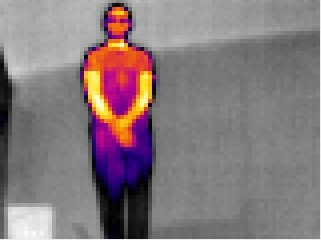human: (80, 3, 158, 240)
